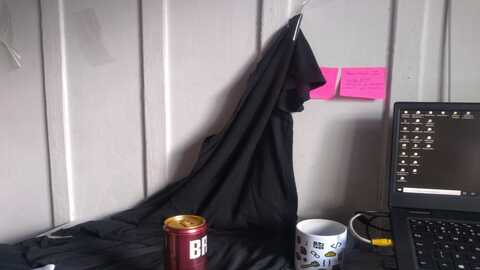duplo_malte: (158, 211, 217, 270)
